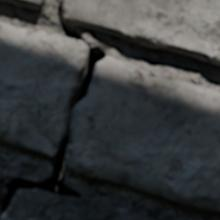brick: (63, 0, 219, 64), (1, 190, 151, 219), (0, 0, 44, 9)
broken_brick: (66, 55, 219, 215), (0, 21, 88, 161)
crack: (0, 2, 106, 217), (103, 178, 137, 190)
